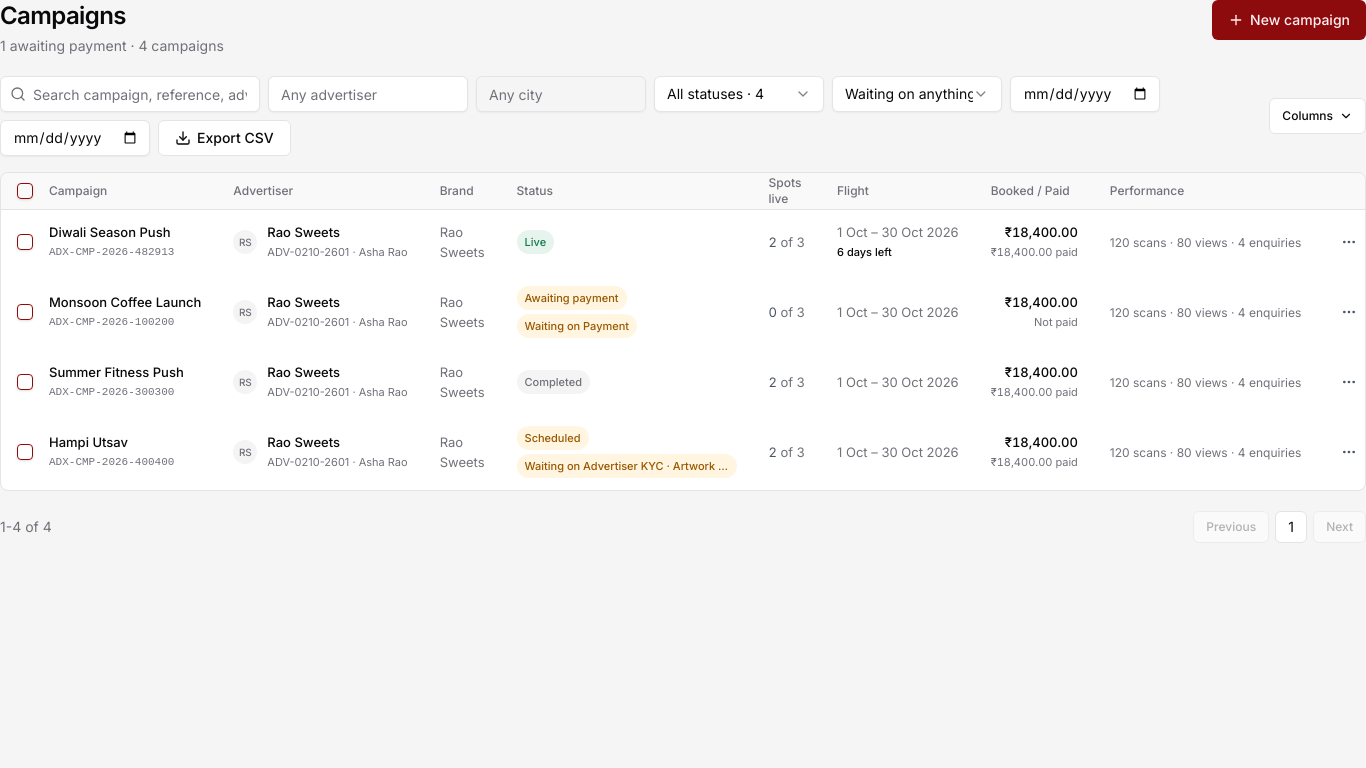
the bulk bar › says so when the dry run is not there, rather than guessing
The width and height of the screenshot is (1366, 768).
Click the checkbox named "Select row" next to "Diwali Season Push" at (25, 242), box [17,234,33,250]
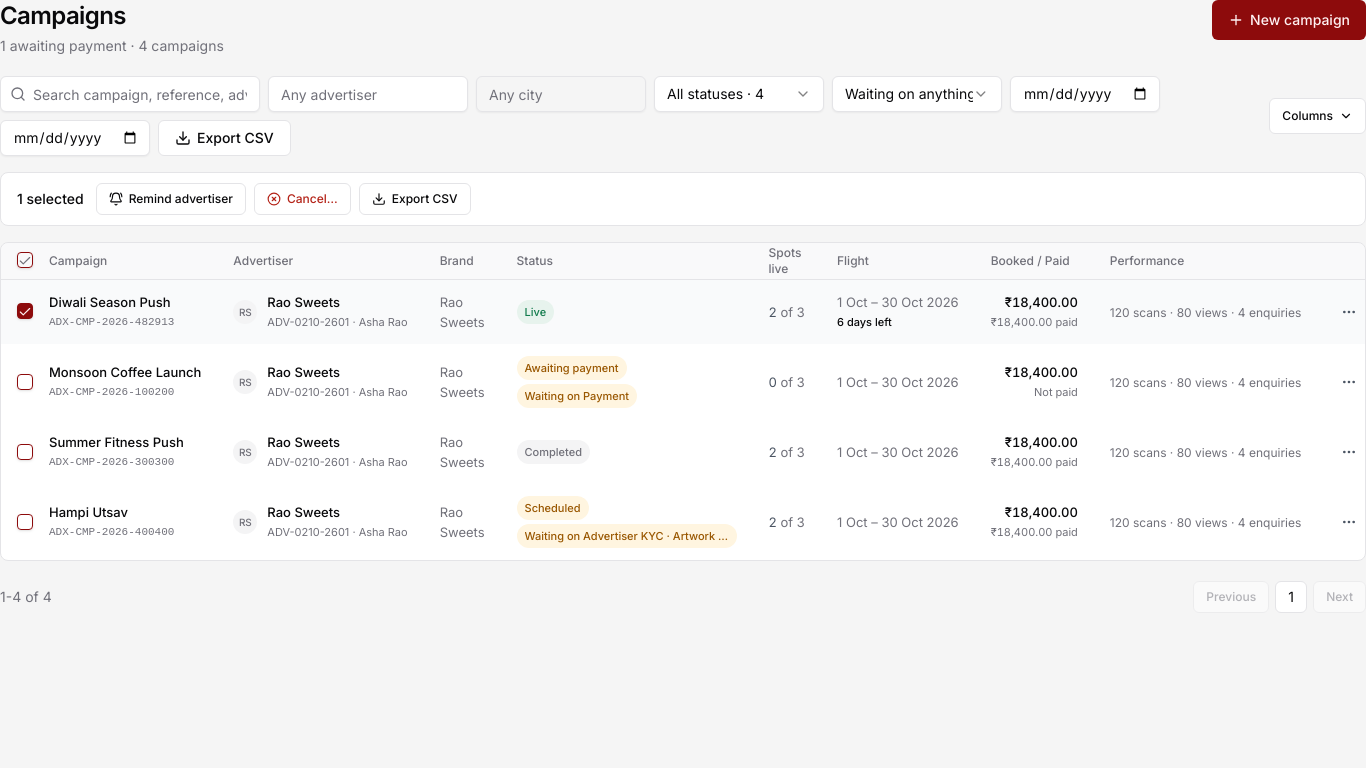
Click the button with test id "bulk-cancel" at (302, 199), box [254,183,351,215]
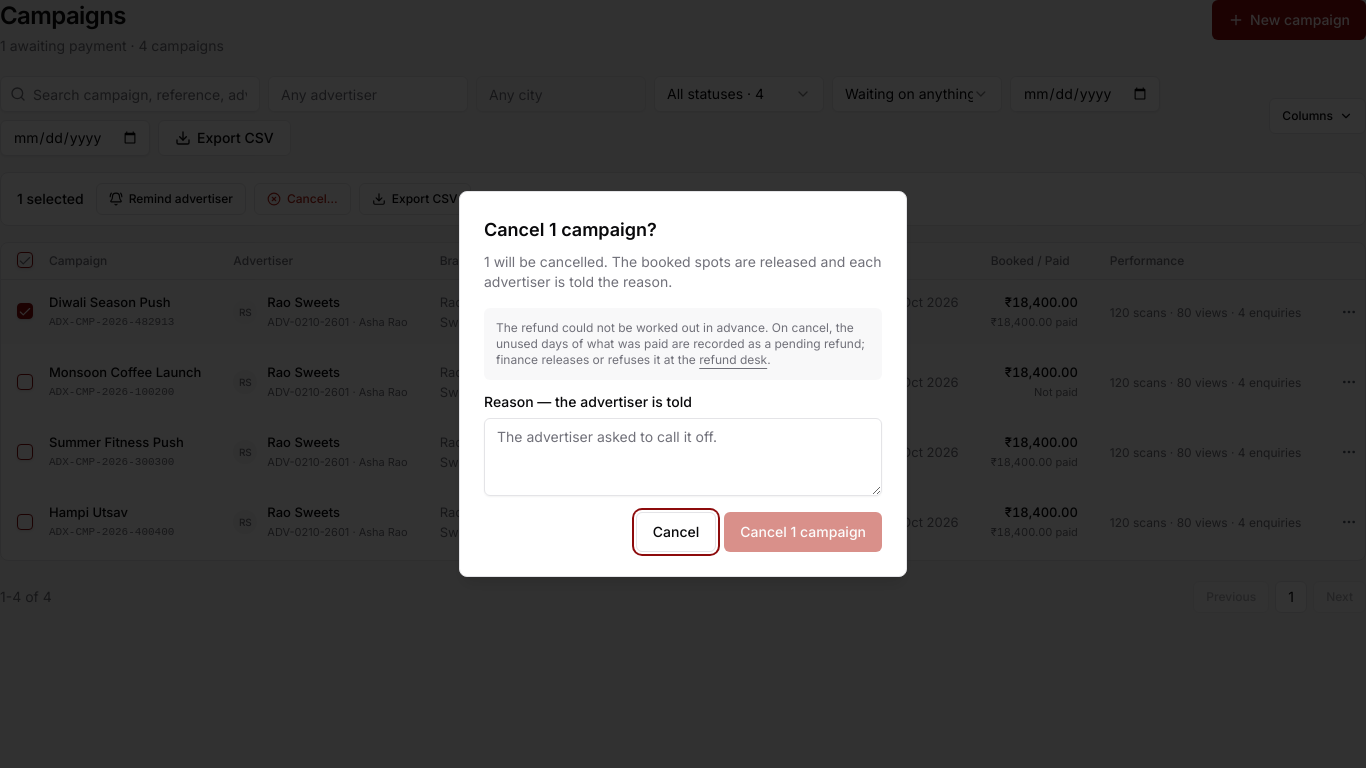
Check: the element with test id "cancel-impact" shows "could not be worked out in advance", box [496,320,865,367]
